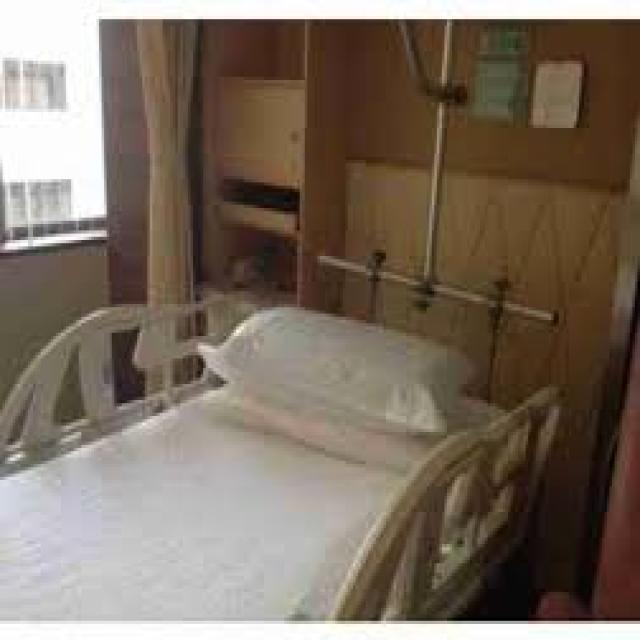bed: (0, 282, 564, 620)
